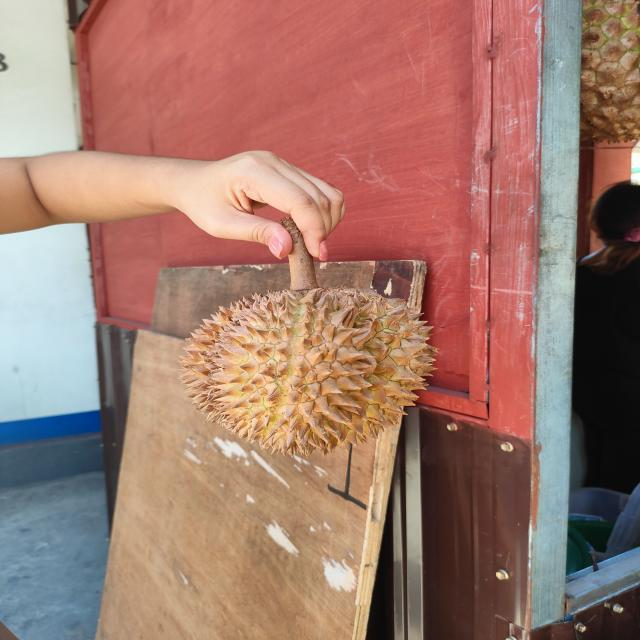mature: (178, 286, 442, 458)
